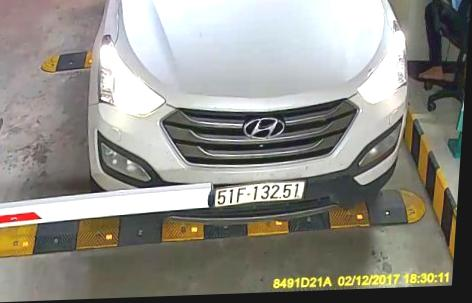License_Plate: (214, 176, 306, 207)
